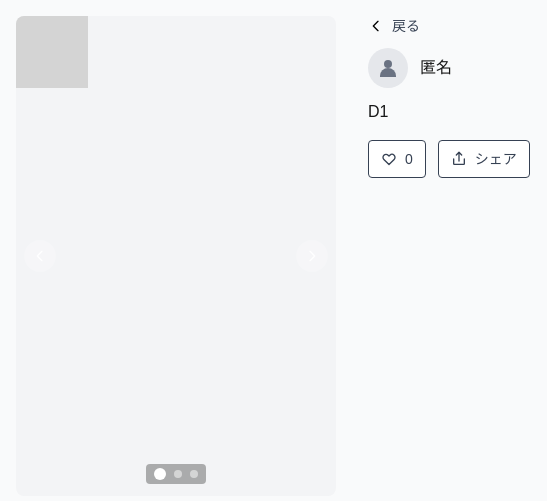
it: PostDetail › ドットページネーションのボタンをクリックすると該当スライドに切り替わる
expect the text "D1" is shown: met, box [368,103,388,120]
Click the button named "スライド 2". click: (178, 474)
box: [174,470,182,478]
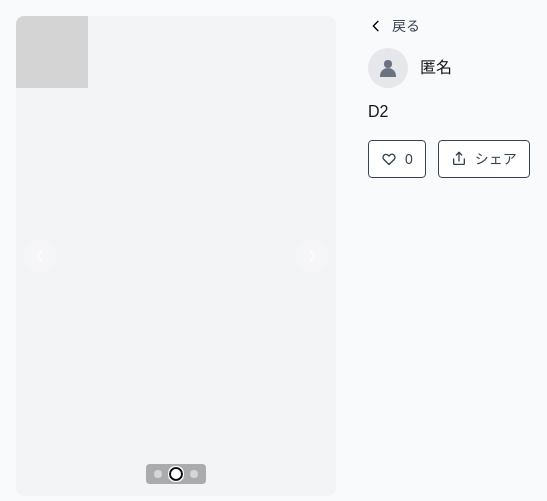
expect the text "D2" is shown: met, box [368,103,388,120]
